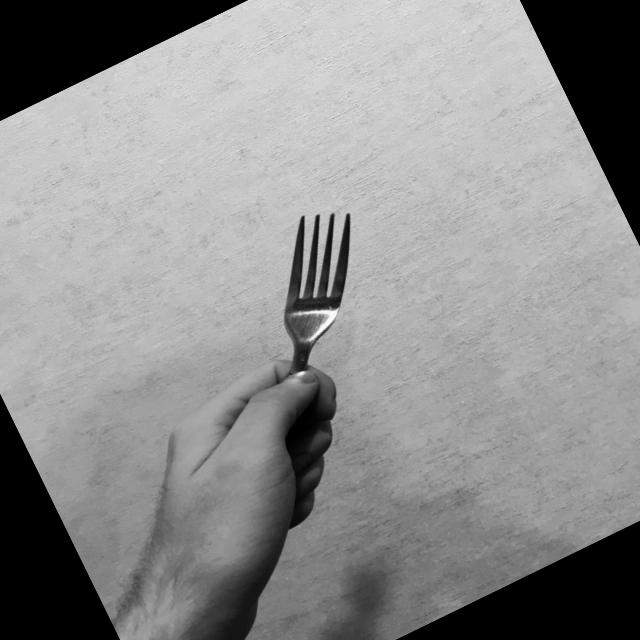fork: (173, 192, 459, 516)
